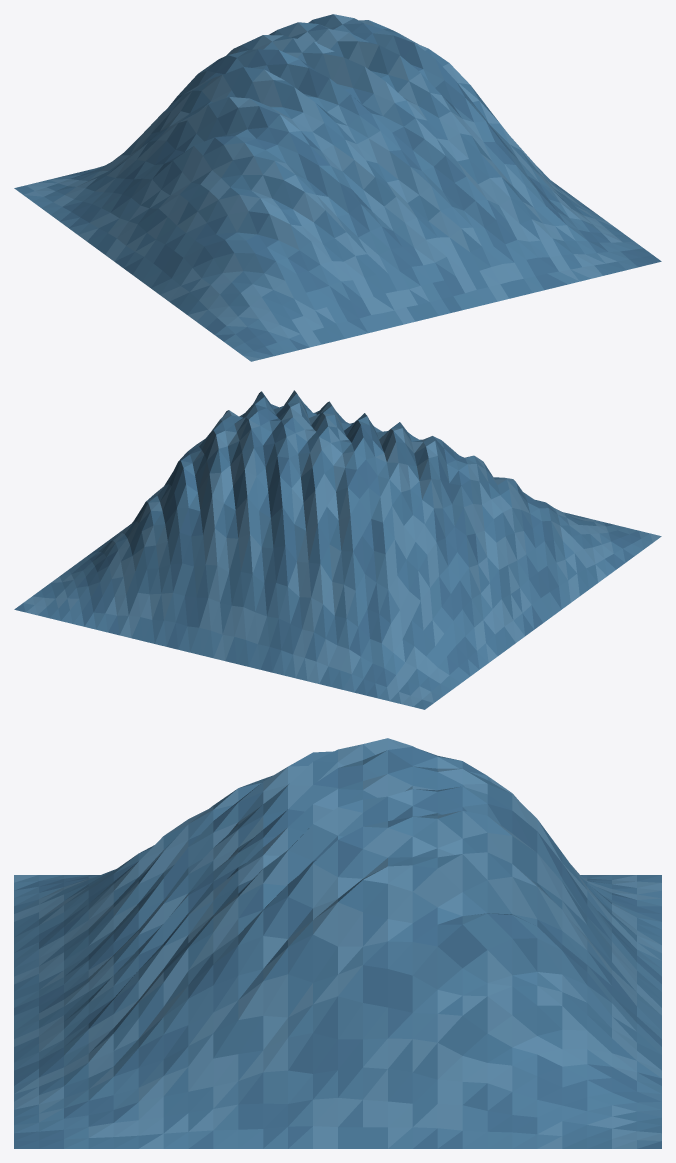
Rendered from mountain.glb.
3 renders of one model, top to bottom at view 1: azimuth 30°, elevation 25°; view 2: azimuth 150°, elevation 25°; view 3: azimuth 270°, elevation 25°, orthographic. The views are drawn at different scales.
Parts seen in each view (by area): view 1: MountainMesh; view 2: MountainMesh; view 3: MountainMesh.
Boxes of the visible parts, bbox=[...] form: MountainMesh: bbox=[14, 14, 661, 361]; MountainMesh: bbox=[14, 390, 661, 709]; MountainMesh: bbox=[14, 738, 661, 1148].
Bounding box in the file's own units: 2 × 0.8 × 2.
